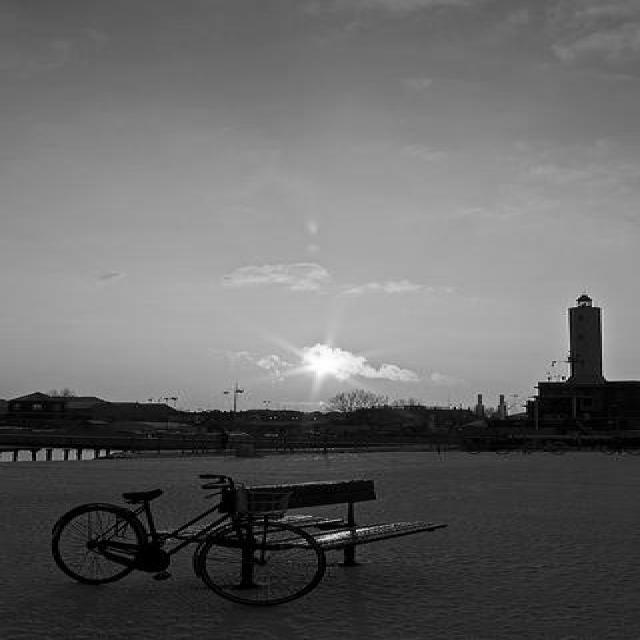vehicle: (106, 423, 179, 435)
